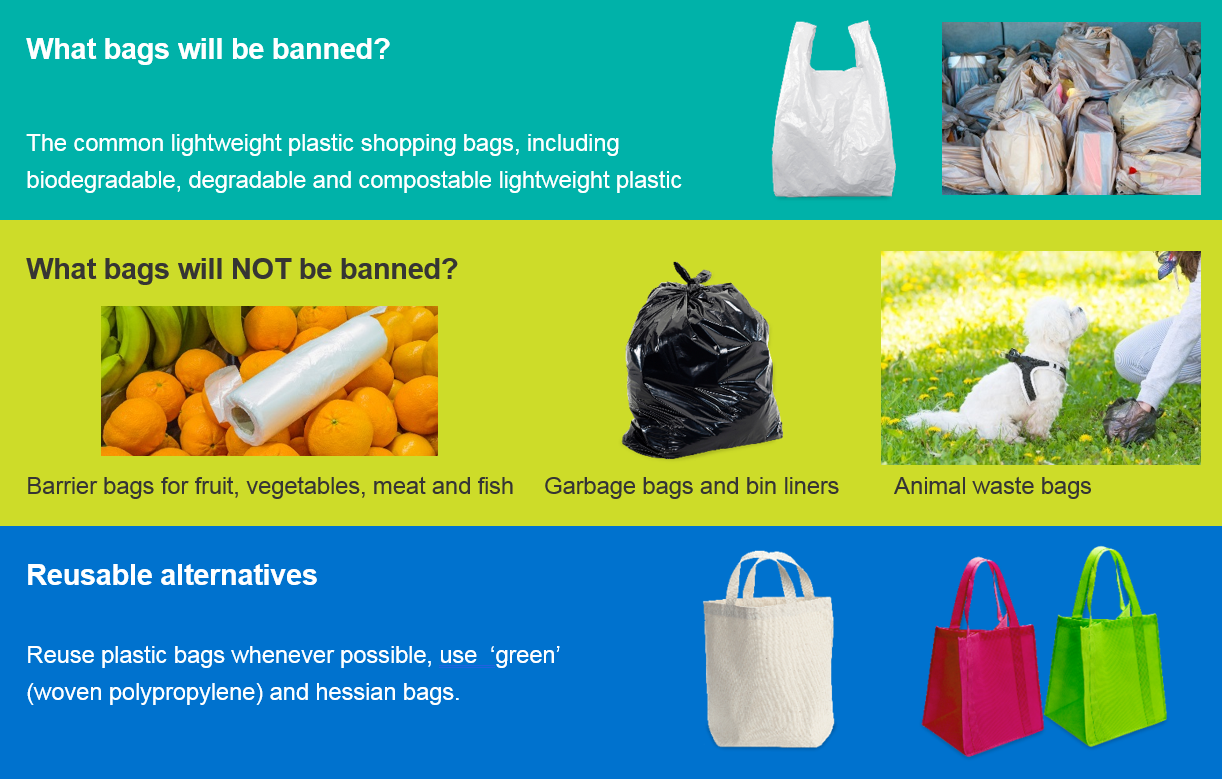plastic_bagwdw: (590, 252, 818, 483), (195, 306, 435, 503), (717, 6, 922, 217), (979, 37, 1065, 221), (1084, 113, 1212, 225), (1035, 19, 1135, 149), (1040, 82, 1124, 231), (1113, 5, 1222, 116), (1107, 60, 1207, 167)
